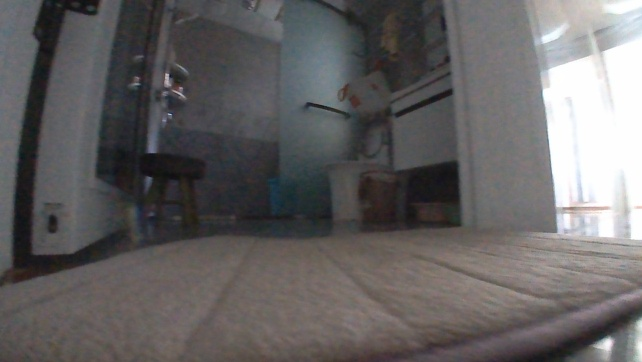blanket: (0, 224, 641, 361)
door_anno: (0, 0, 178, 270)
toilet: (324, 119, 392, 221)
